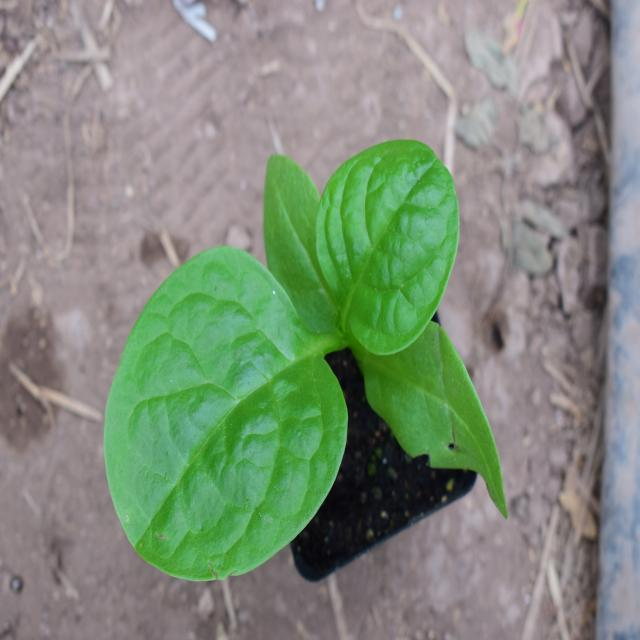Ceylon spinach: (97, 158, 527, 524)
